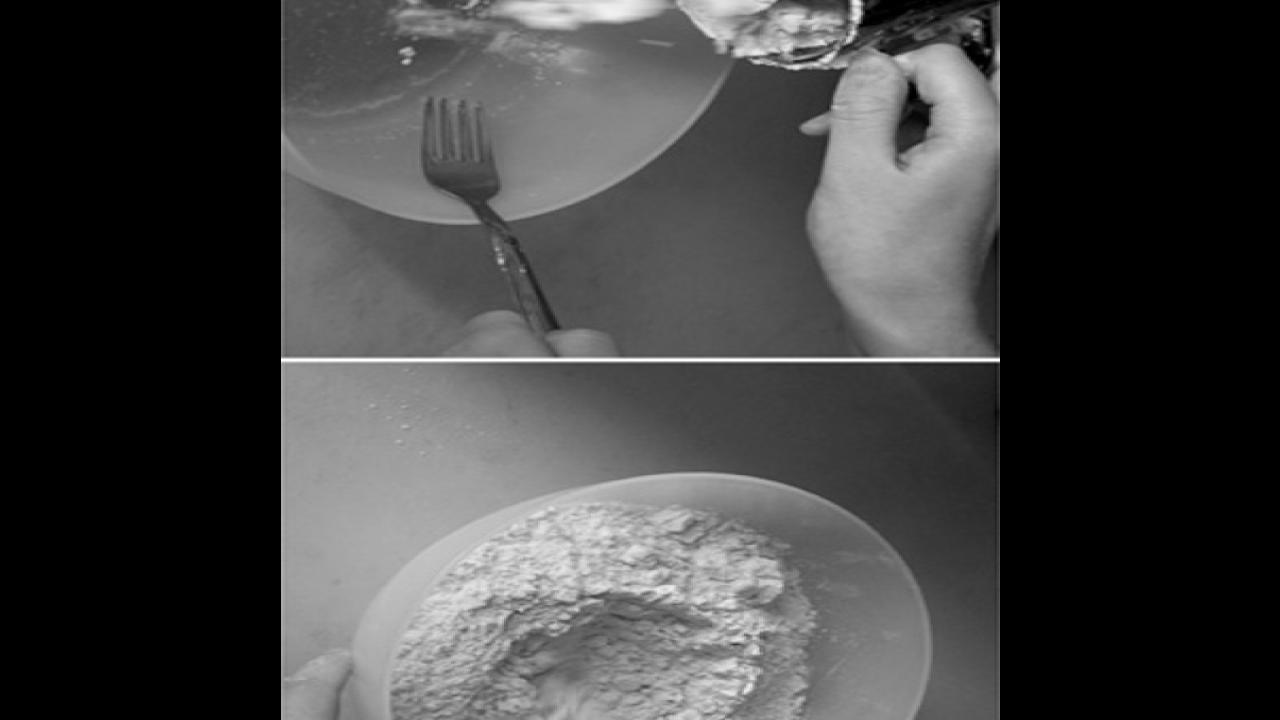fork: (405, 94, 565, 336)
